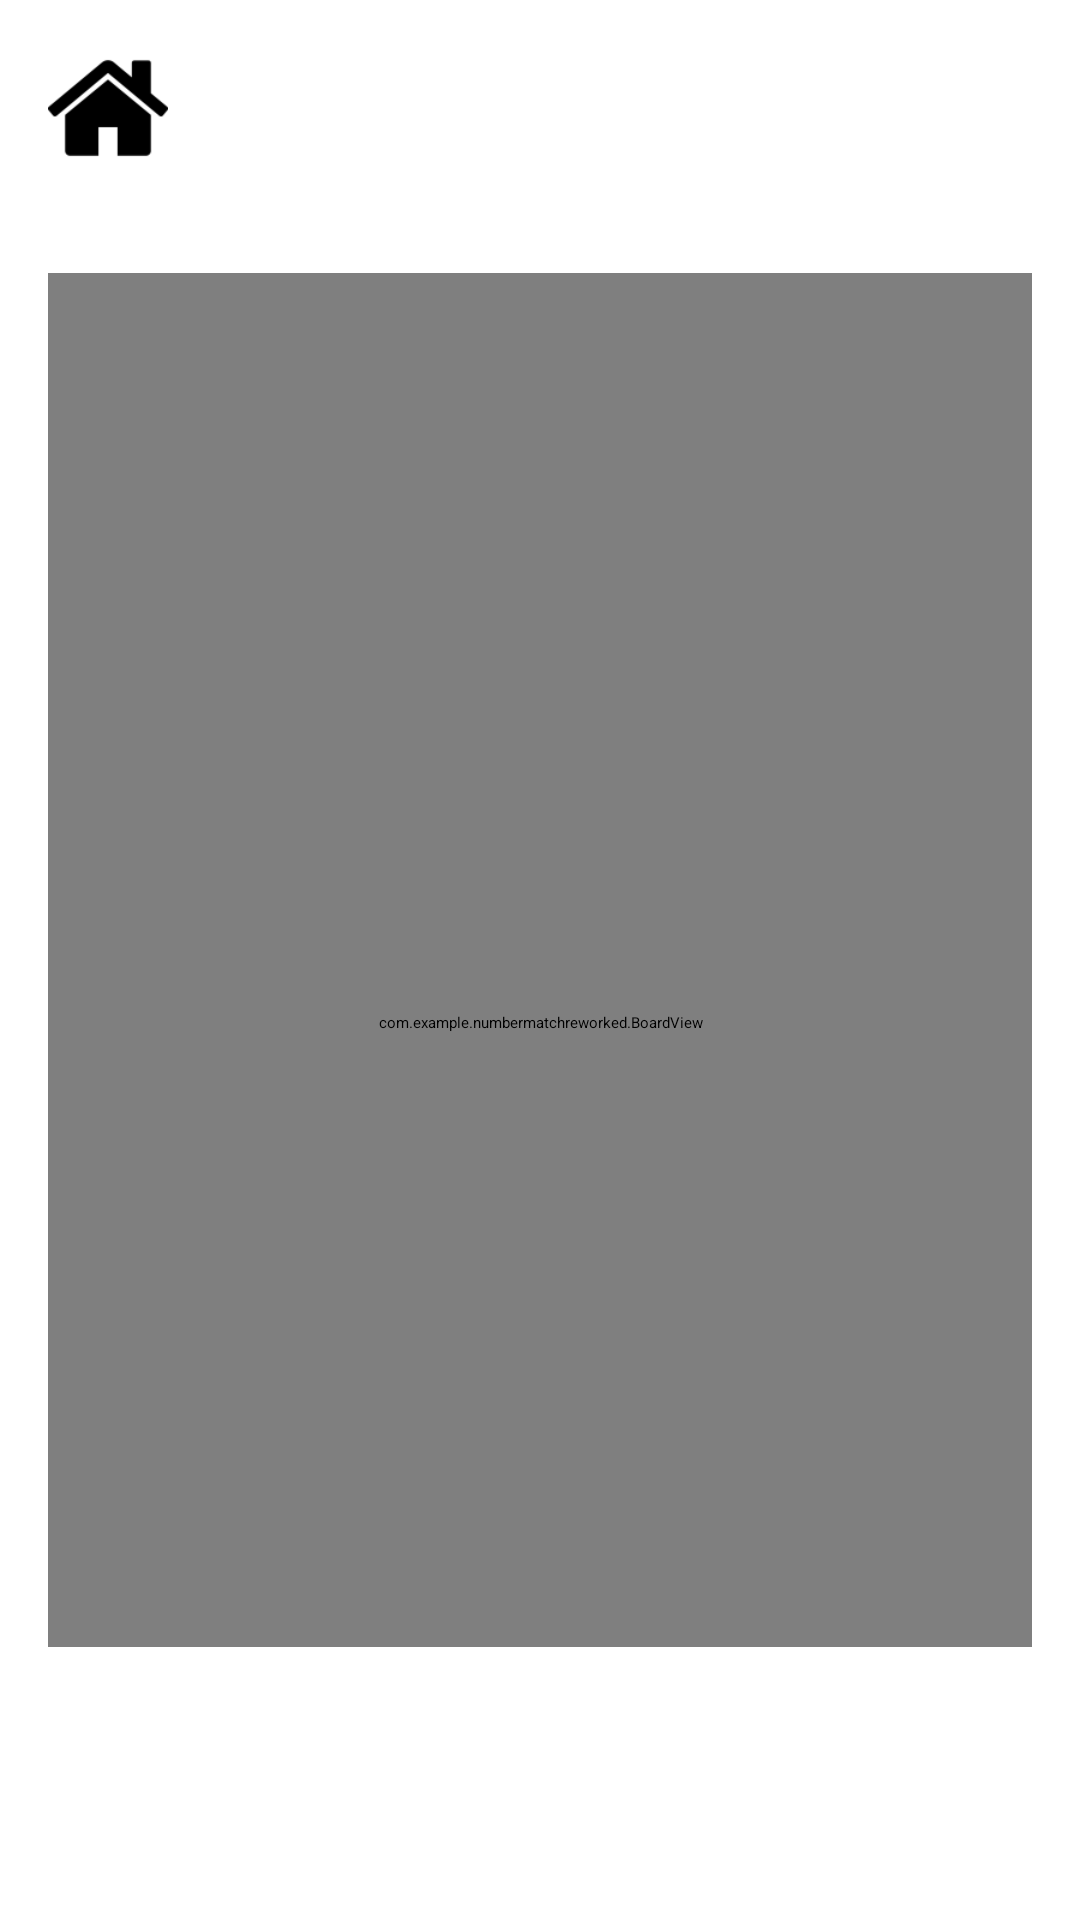

Icon click points for this 1080px x 1920px phone screenshot, format [x,y]:
home: [108,108]
